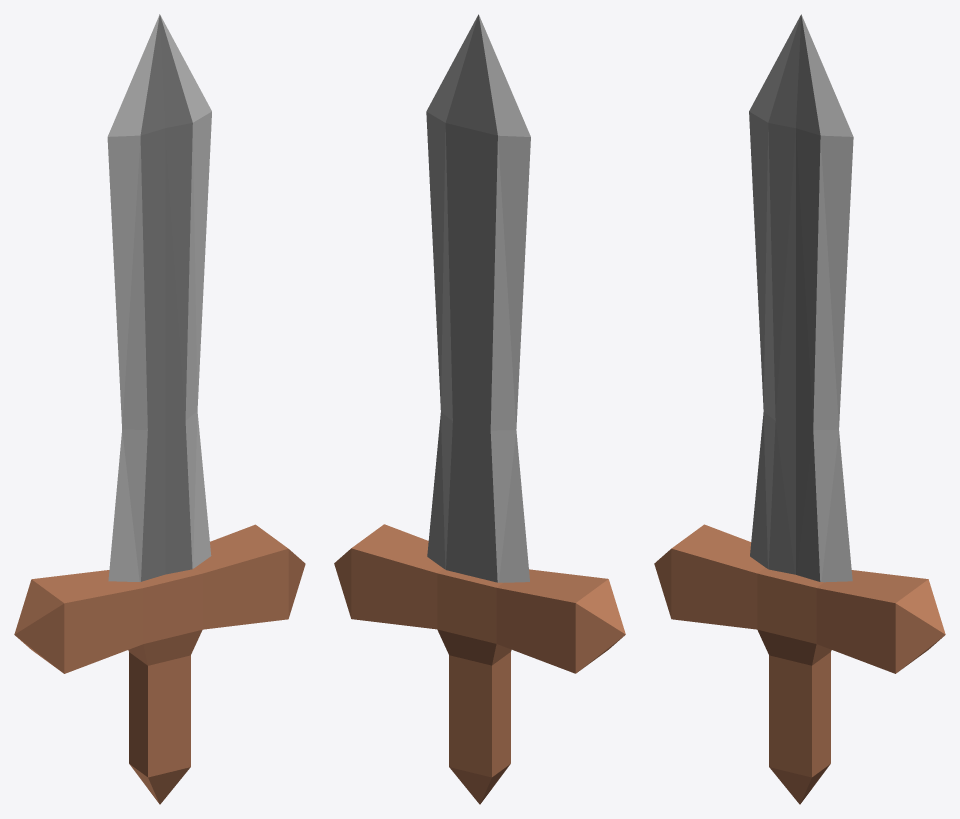
File: sword.obj
3 renders of one model, left to right at view 1: azimuth 30°, elevation 25°; view 2: azimuth 150°, elevation 25°; view 3: azimuth 330°, elevation 25°, orthographic.
Parts seen in each view (by area): view 1: Cube; view 2: Cube; view 3: Cube.
Part boxes in pixels (x1,y1,x2,y2): Cube: [14, 14, 305, 804]; Cube: [334, 14, 625, 804]; Cube: [654, 14, 945, 804].
Bounding box in the file's own units: 2.6 × 6.74 × 0.5096.
Materials: 2 (2 with a texture image).
